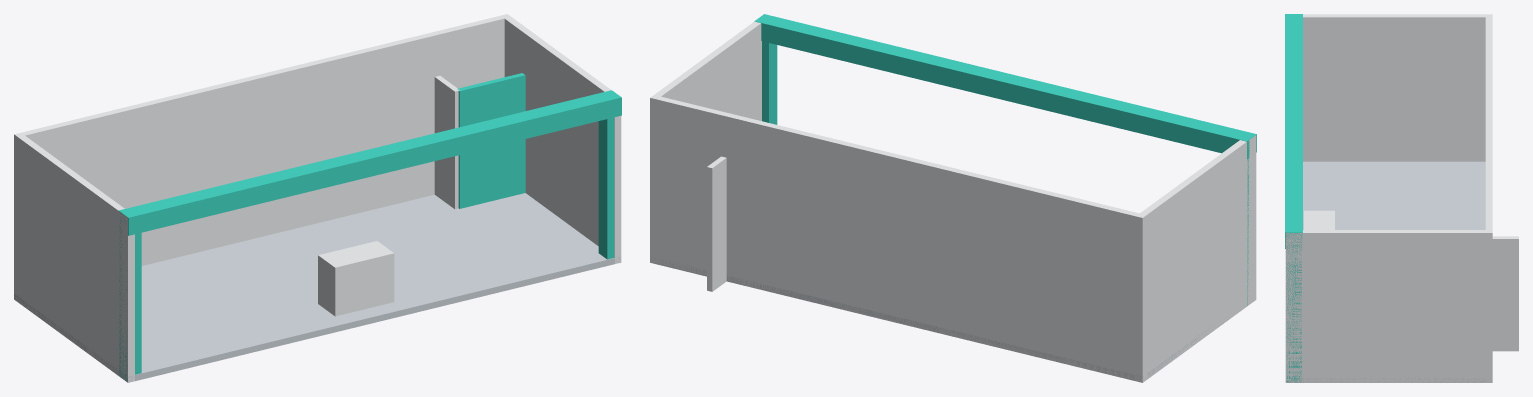
The picture shows the model from 3 angles, left to right: view 1: azimuth 30°, elevation 25°; view 2: azimuth 150°, elevation 25°; view 3: azimuth 270°, elevation 25°; orthographic projection. The views are drawn at different scales.
Visible parts, largest first — view 1: Exhibition Booth Concept; view 2: Exhibition Booth Concept; view 3: Exhibition Booth Concept.
Part boxes in pixels (left/top/right/bottom): Exhibition Booth Concept: left=14, top=14, right=621, bottom=382; Exhibition Booth Concept: left=650, top=14, right=1256, bottom=382; Exhibition Booth Concept: left=1285, top=14, right=1518, bottom=382.
Bounding box in the file's own units: 10 × 3.2 × 4.52.
